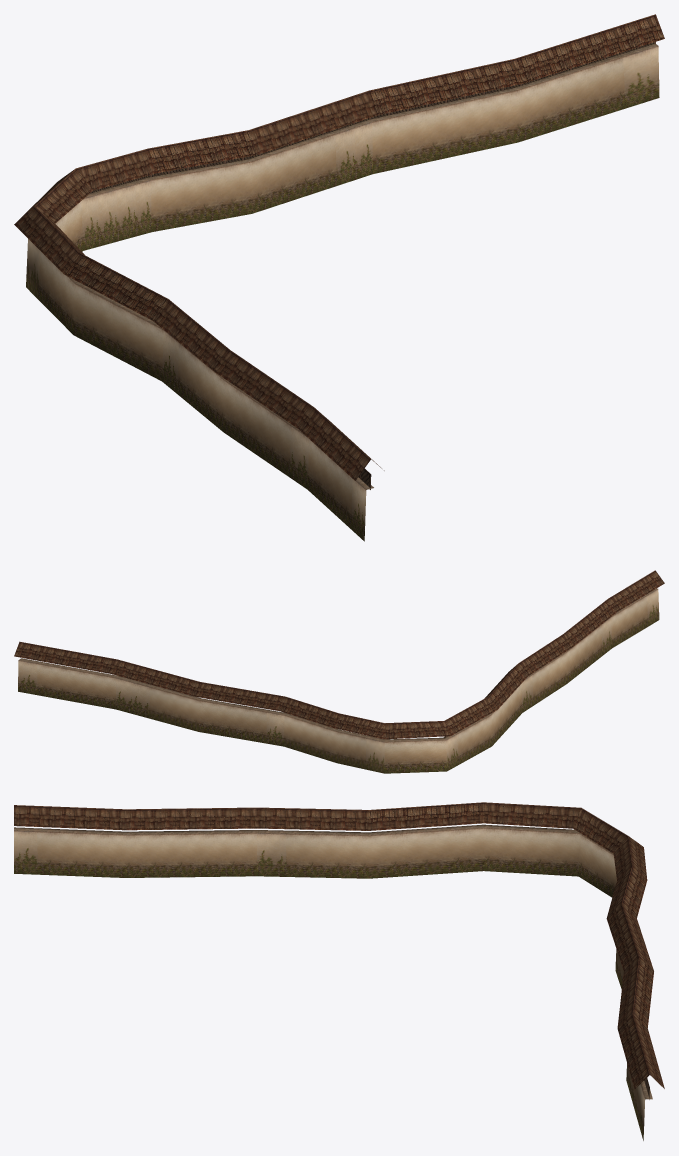
The model's file is ti_wall_c.glb.
The picture shows the model from 3 angles, top to bottom: view 1: azimuth 30°, elevation 25°; view 2: azimuth 150°, elevation 25°; view 3: azimuth 270°, elevation 25°; orthographic projection. The views are drawn at different scales.
Parts seen in each view (by area): view 1: TI_Wall_C; view 2: TI_Wall_C; view 3: TI_Wall_C.
Part boxes in pixels (x1,y1,x2,y2): TI_Wall_C: (14, 14, 664, 541); TI_Wall_C: (14, 570, 664, 773); TI_Wall_C: (14, 802, 664, 1140).
Bounding box in the file's own units: 24.06 × 2.69 × 23.72.
Materials: 6 (6 with a texture image).
